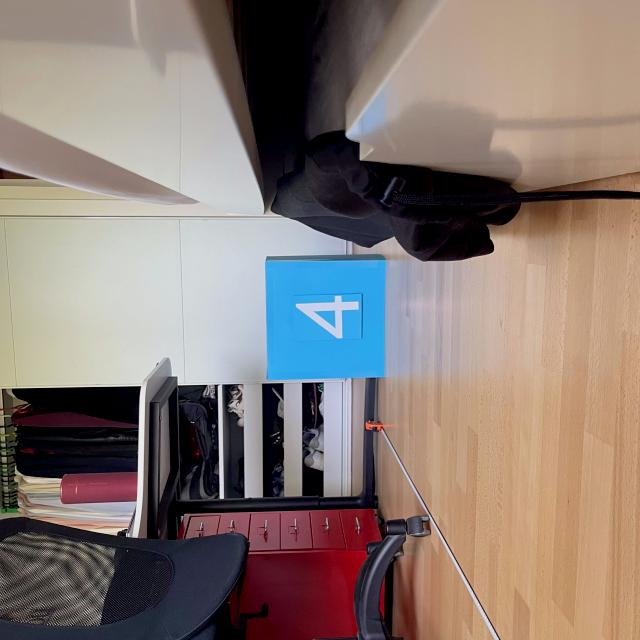box: (260, 250, 390, 382)
